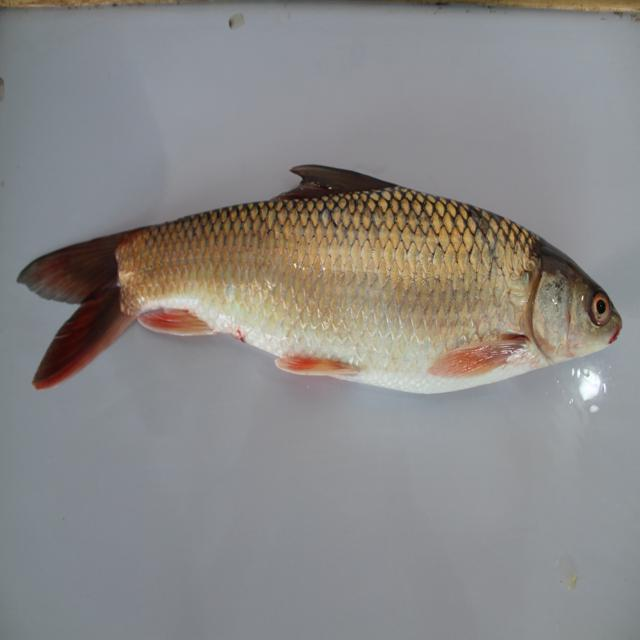Mori: (17, 150, 624, 426)
